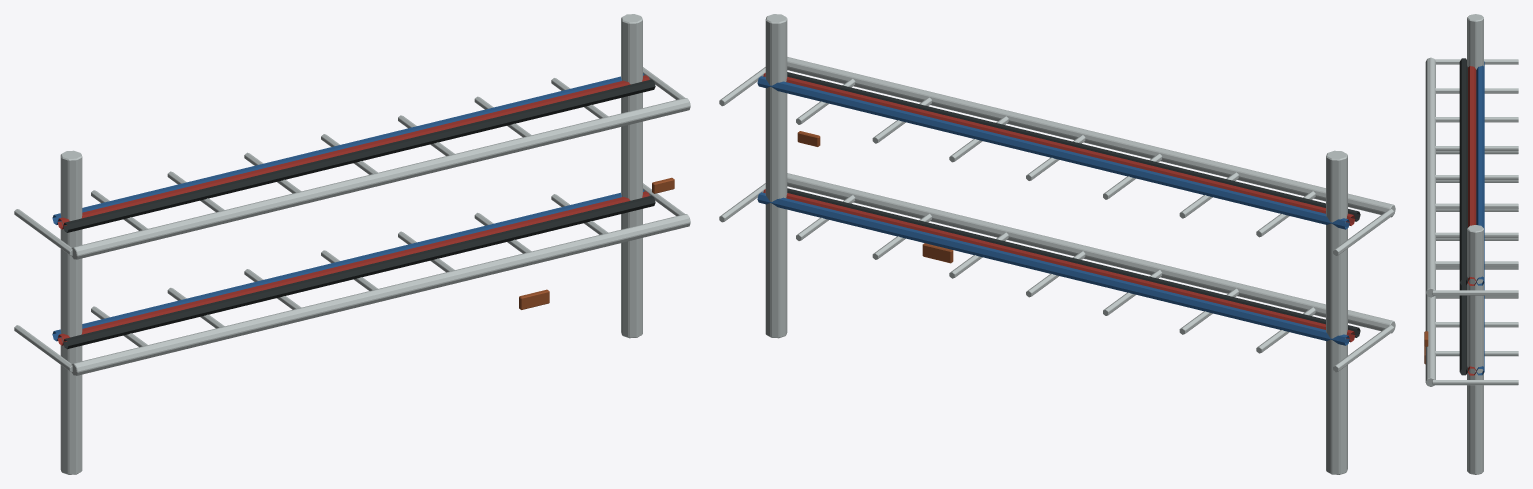
The model's file is runtime.glb.
The picture shows the model from 3 angles, left to right: view 1: azimuth 30°, elevation 25°; view 2: azimuth 150°, elevation 25°; view 3: azimuth 270°, elevation 25°; orthographic projection. The views are drawn at different scales.
Visible parts, largest first — view 1: reactor-cable-tray-v02_nocol; view 2: reactor-cable-tray-v02_nocol; view 3: reactor-cable-tray-v02_nocol.
Part boxes in pixels (left/top/right/bottom): reactor-cable-tray-v02_nocol: left=14, top=14, right=690, bottom=474; reactor-cable-tray-v02_nocol: left=719, top=14, right=1395, bottom=474; reactor-cable-tray-v02_nocol: left=1424, top=14, right=1518, bottom=474.
Bounding box in the file's own units: 4.68 × 2.28 × 0.8003.
